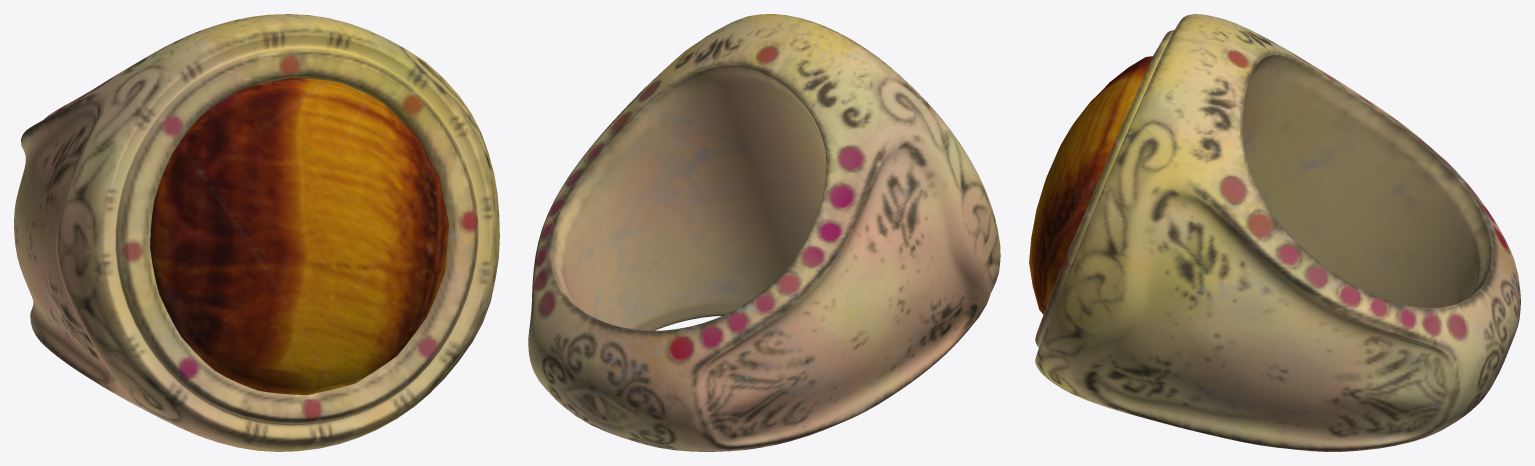
File: ring.gltf
The picture shows the model from 3 angles, left to right: view 1: azimuth 30°, elevation 25°; view 2: azimuth 150°, elevation 25°; view 3: azimuth 270°, elevation 25°; orthographic projection. The views are drawn at different scales.
Visible parts, largest first — view 1: ring_low; view 2: ring_low; view 3: ring_low.
Part boxes in pixels (x1=…): ring_low: x1=14, y1=14, x2=499, y2=451; ring_low: x1=528, y1=14, x2=1000, y2=451; ring_low: x1=1029, y1=14, x2=1520, y2=451.
Size of the model in its own units: 1.86 by 1.66 by 2.09.
1 material, 1 textured.
